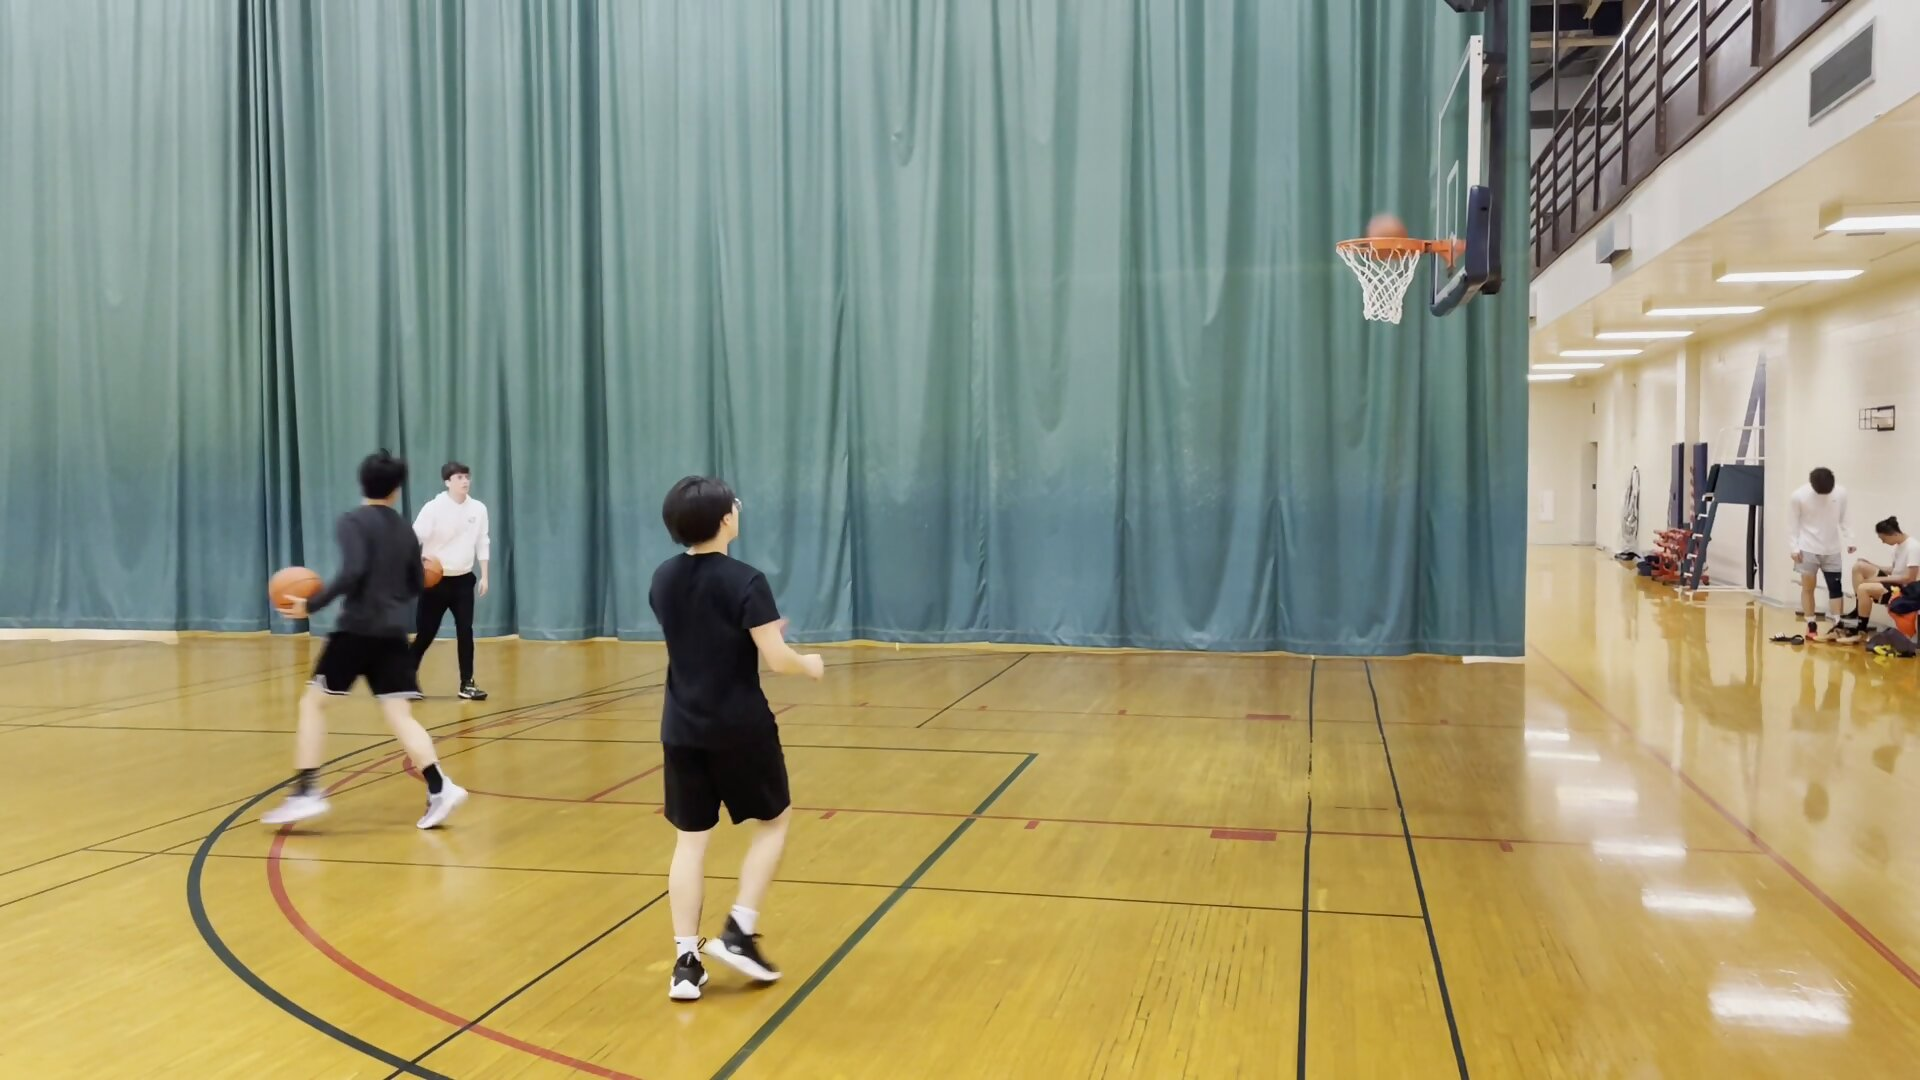ball: (264, 568, 322, 616), (1367, 215, 1412, 255)
net: (1354, 296, 1410, 330)
player: (645, 470, 816, 1006), (296, 450, 465, 839), (411, 464, 498, 707), (1787, 467, 1857, 649), (1854, 516, 1920, 632)
rim: (1330, 235, 1433, 264)
